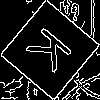K: (25, 25, 81, 80)
